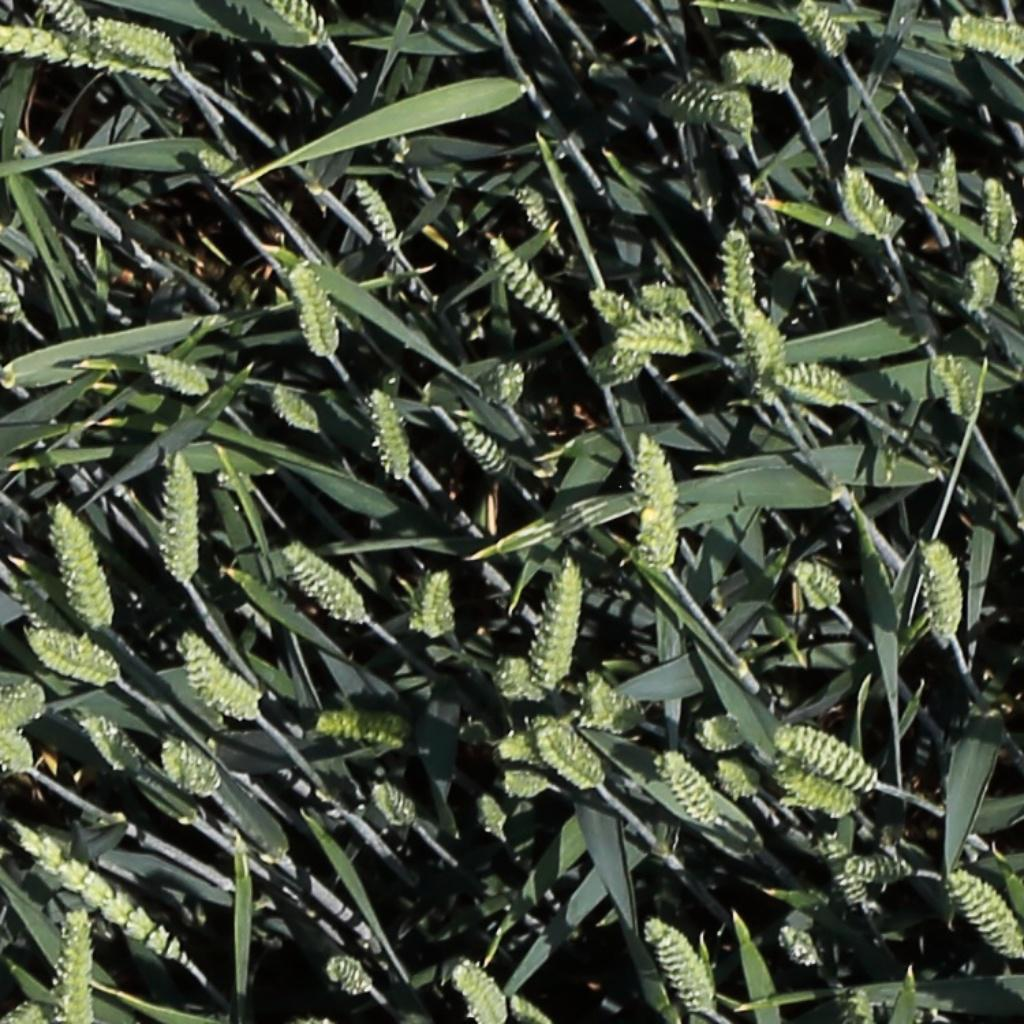0-0: (9, 806, 218, 977), (498, 714, 606, 794), (49, 498, 111, 633), (486, 229, 565, 323), (648, 914, 718, 1017), (283, 544, 367, 625), (184, 634, 260, 723), (948, 868, 1022, 959), (779, 727, 882, 790), (159, 451, 207, 584), (531, 558, 582, 682), (640, 425, 678, 576), (47, 0, 120, 77), (656, 748, 722, 832), (289, 258, 339, 359), (182, 636, 234, 733), (350, 170, 406, 256), (368, 382, 415, 483), (588, 285, 679, 337), (453, 409, 517, 480), (778, 757, 856, 815), (842, 159, 899, 238), (775, 360, 856, 411), (924, 537, 963, 640), (31, 633, 118, 679), (678, 73, 755, 124), (92, 16, 177, 62), (822, 843, 876, 914), (512, 180, 565, 251), (744, 299, 791, 379), (618, 314, 698, 360), (453, 957, 507, 1024), (76, 712, 132, 776), (484, 658, 561, 704), (581, 670, 640, 730), (932, 349, 978, 425), (143, 352, 214, 400), (196, 146, 264, 195), (410, 565, 454, 640), (593, 336, 661, 384), (798, 0, 851, 61), (979, 170, 1021, 245), (161, 742, 219, 795), (64, 905, 90, 1019), (270, 0, 333, 47), (726, 222, 753, 329), (270, 380, 323, 434), (663, 91, 752, 122), (793, 558, 845, 611), (370, 779, 420, 834), (0, 225, 27, 322), (314, 719, 408, 746), (0, 666, 43, 725), (951, 21, 1022, 55), (473, 787, 512, 845), (778, 924, 826, 970), (0, 28, 73, 58), (937, 137, 962, 222), (714, 757, 761, 802), (490, 358, 530, 408), (969, 248, 998, 316), (326, 957, 374, 996), (0, 714, 31, 772), (727, 55, 794, 81), (640, 285, 696, 311), (506, 992, 551, 1024), (699, 720, 745, 750), (1007, 238, 1024, 312), (851, 980, 879, 1024), (849, 862, 914, 880), (4, 1000, 46, 1024), (502, 775, 552, 794)
